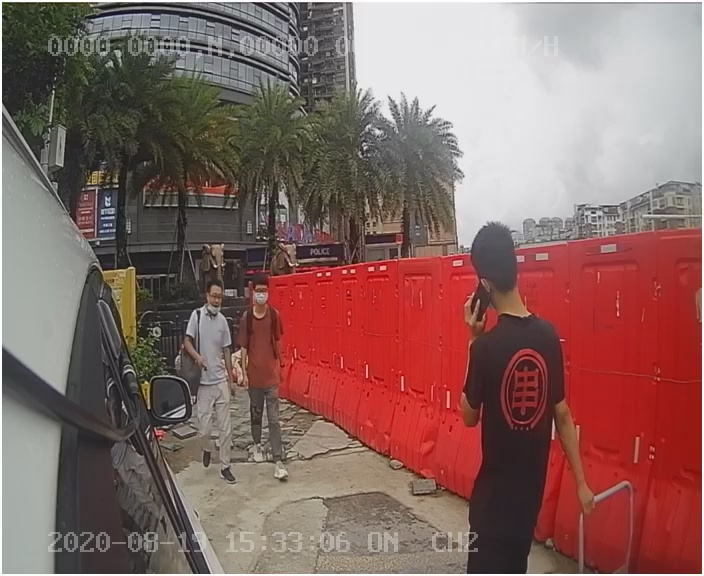person: (233, 273, 322, 484), (177, 281, 249, 488)
